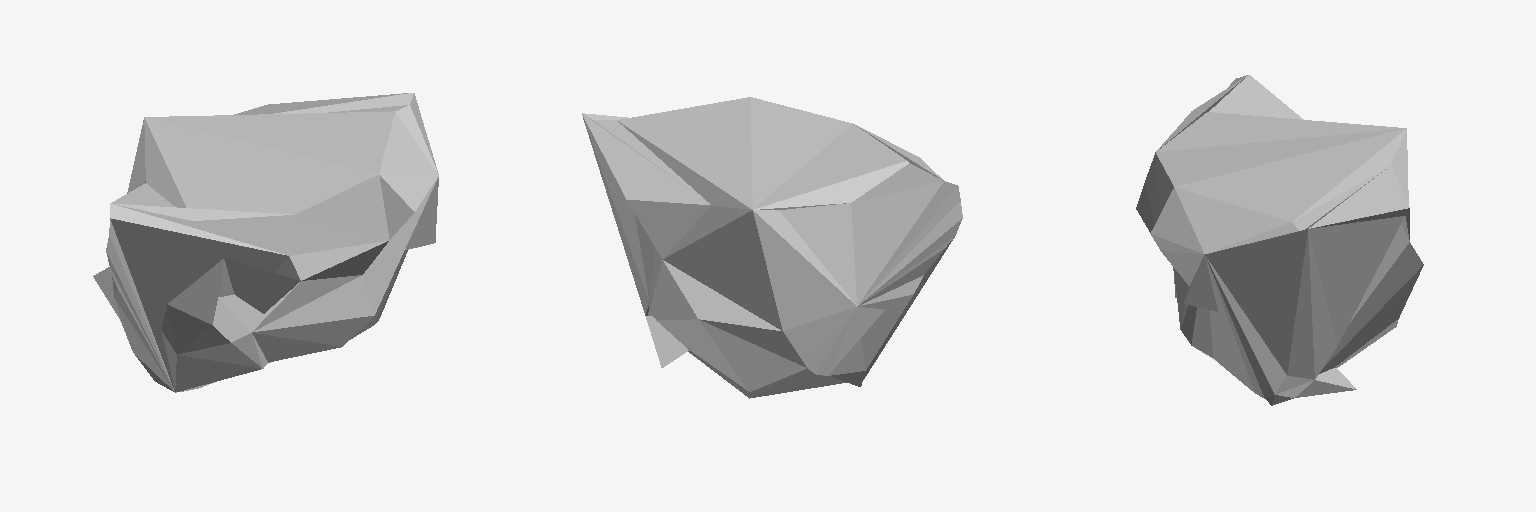
The model's file is rock1.obj.
3 renders of one model, left to right at view 1: azimuth 30°, elevation 25°; view 2: azimuth 150°, elevation 25°; view 3: azimuth 270°, elevation 25°, orthographic.
Parts seen in each view (by area): view 1: Cube_Cube.003; view 2: Cube_Cube.003; view 3: Cube_Cube.003.
Boxes of the visible parts, x1,y1,x2,y2 form: Cube_Cube.003: [93, 93, 438, 392]; Cube_Cube.003: [582, 97, 962, 398]; Cube_Cube.003: [1136, 75, 1423, 405].
Bounding box in the file's own units: 45.4 × 27.95 × 32.84.